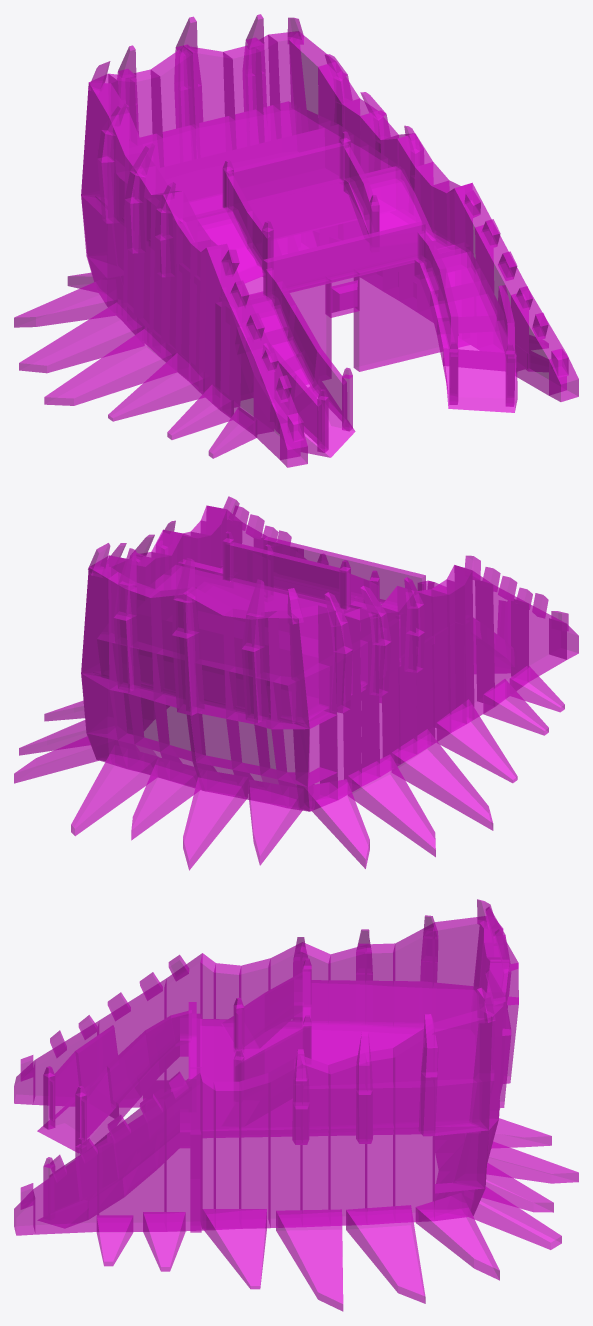
File: SM_Veh_Ship_L_Back_03_Collision.fbx
3 renders of one model, top to bottom at view 1: azimuth 30°, elevation 25°; view 2: azimuth 150°, elevation 25°; view 3: azimuth 270°, elevation 25°, orthographic.
Parts seen in each view (by area): view 1: SM_Veh_Ship_L_Back_03_Collision; view 2: SM_Veh_Ship_L_Back_03_Collision; view 3: SM_Veh_Ship_L_Back_03_Collision.
Part boxes in pixels (x1,y1,x2,y2): SM_Veh_Ship_L_Back_03_Collision: (14, 14, 578, 467); SM_Veh_Ship_L_Back_03_Collision: (14, 496, 578, 870); SM_Veh_Ship_L_Back_03_Collision: (14, 899, 578, 1311).
Size of the model in its own units: 1634 by 964 by 1792.
